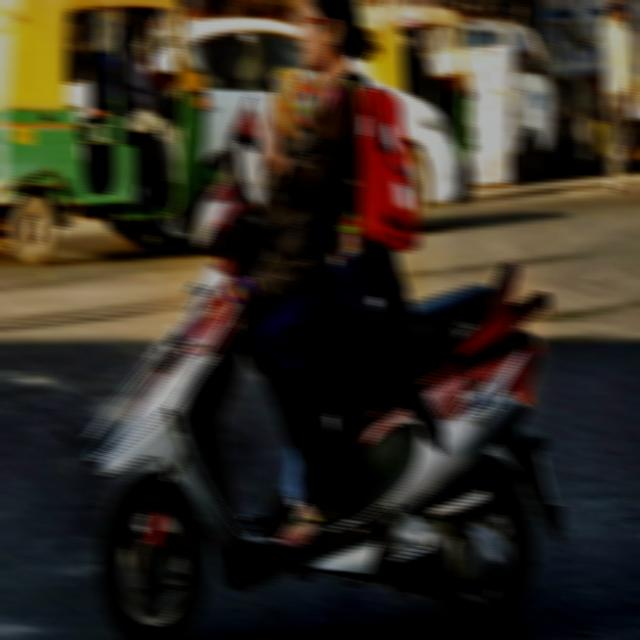Without Helmet: (290, 0, 367, 70)
